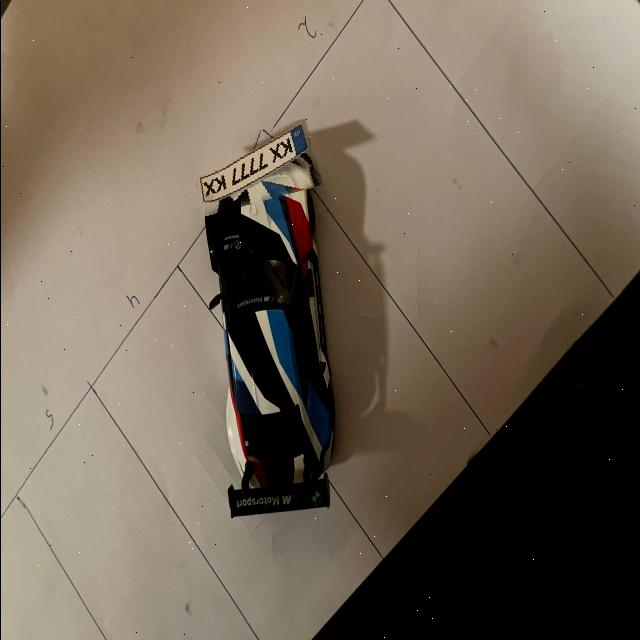KX 7777 KX: (191, 119, 313, 215)
